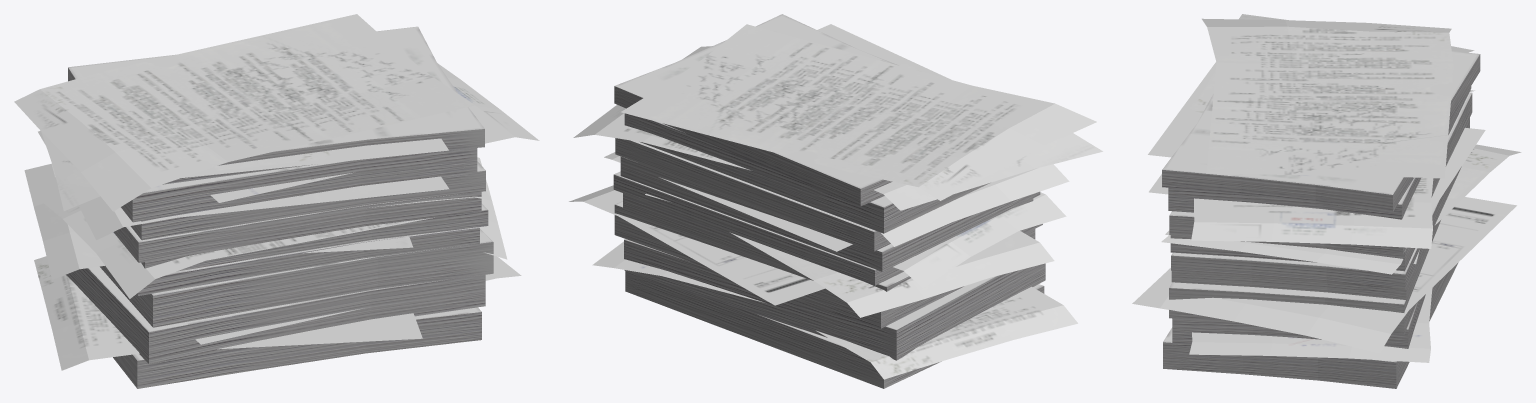
The model's file is office_paperstack_001_cube.fbx.
3 renders of one model, left to right at view 1: azimuth 30°, elevation 25°; view 2: azimuth 150°, elevation 25°; view 3: azimuth 270°, elevation 25°, orthographic. The views are drawn at different scales.
Visible parts, largest first — view 1: office_paperstack_001_cube; view 2: office_paperstack_001_cube; view 3: office_paperstack_001_cube.
Part boxes in pixels (bbox=[...]): office_paperstack_001_cube: bbox=[14, 14, 539, 388]; office_paperstack_001_cube: bbox=[569, 14, 1102, 388]; office_paperstack_001_cube: bbox=[1132, 14, 1521, 388].
Size of the model in its own units: 2.56 by 1.07 by 1.86.
